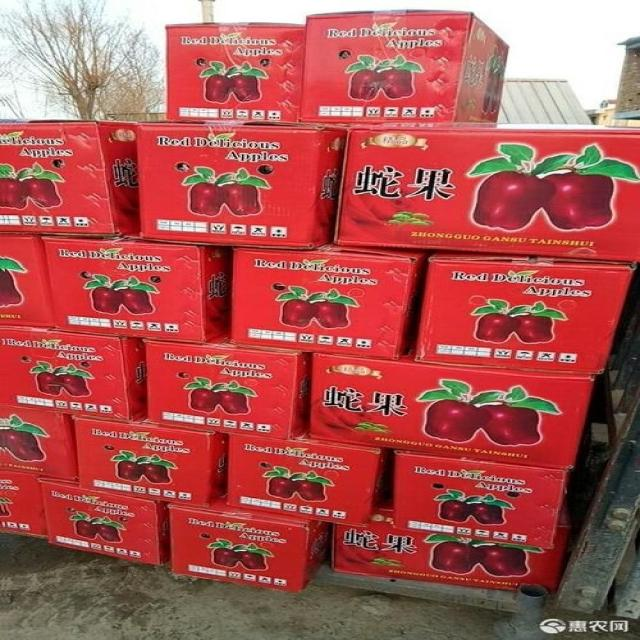box: (333, 126, 640, 263), (310, 351, 596, 471), (410, 250, 636, 375), (137, 119, 348, 249), (303, 9, 511, 128), (229, 242, 428, 359), (40, 234, 233, 344), (330, 509, 570, 591), (142, 335, 315, 440), (393, 451, 568, 549), (0, 120, 141, 237), (166, 499, 330, 593), (227, 435, 387, 525), (0, 324, 145, 422), (73, 415, 229, 506), (165, 22, 303, 123), (37, 475, 169, 566), (0, 403, 78, 481), (0, 234, 58, 331), (0, 471, 45, 539)
